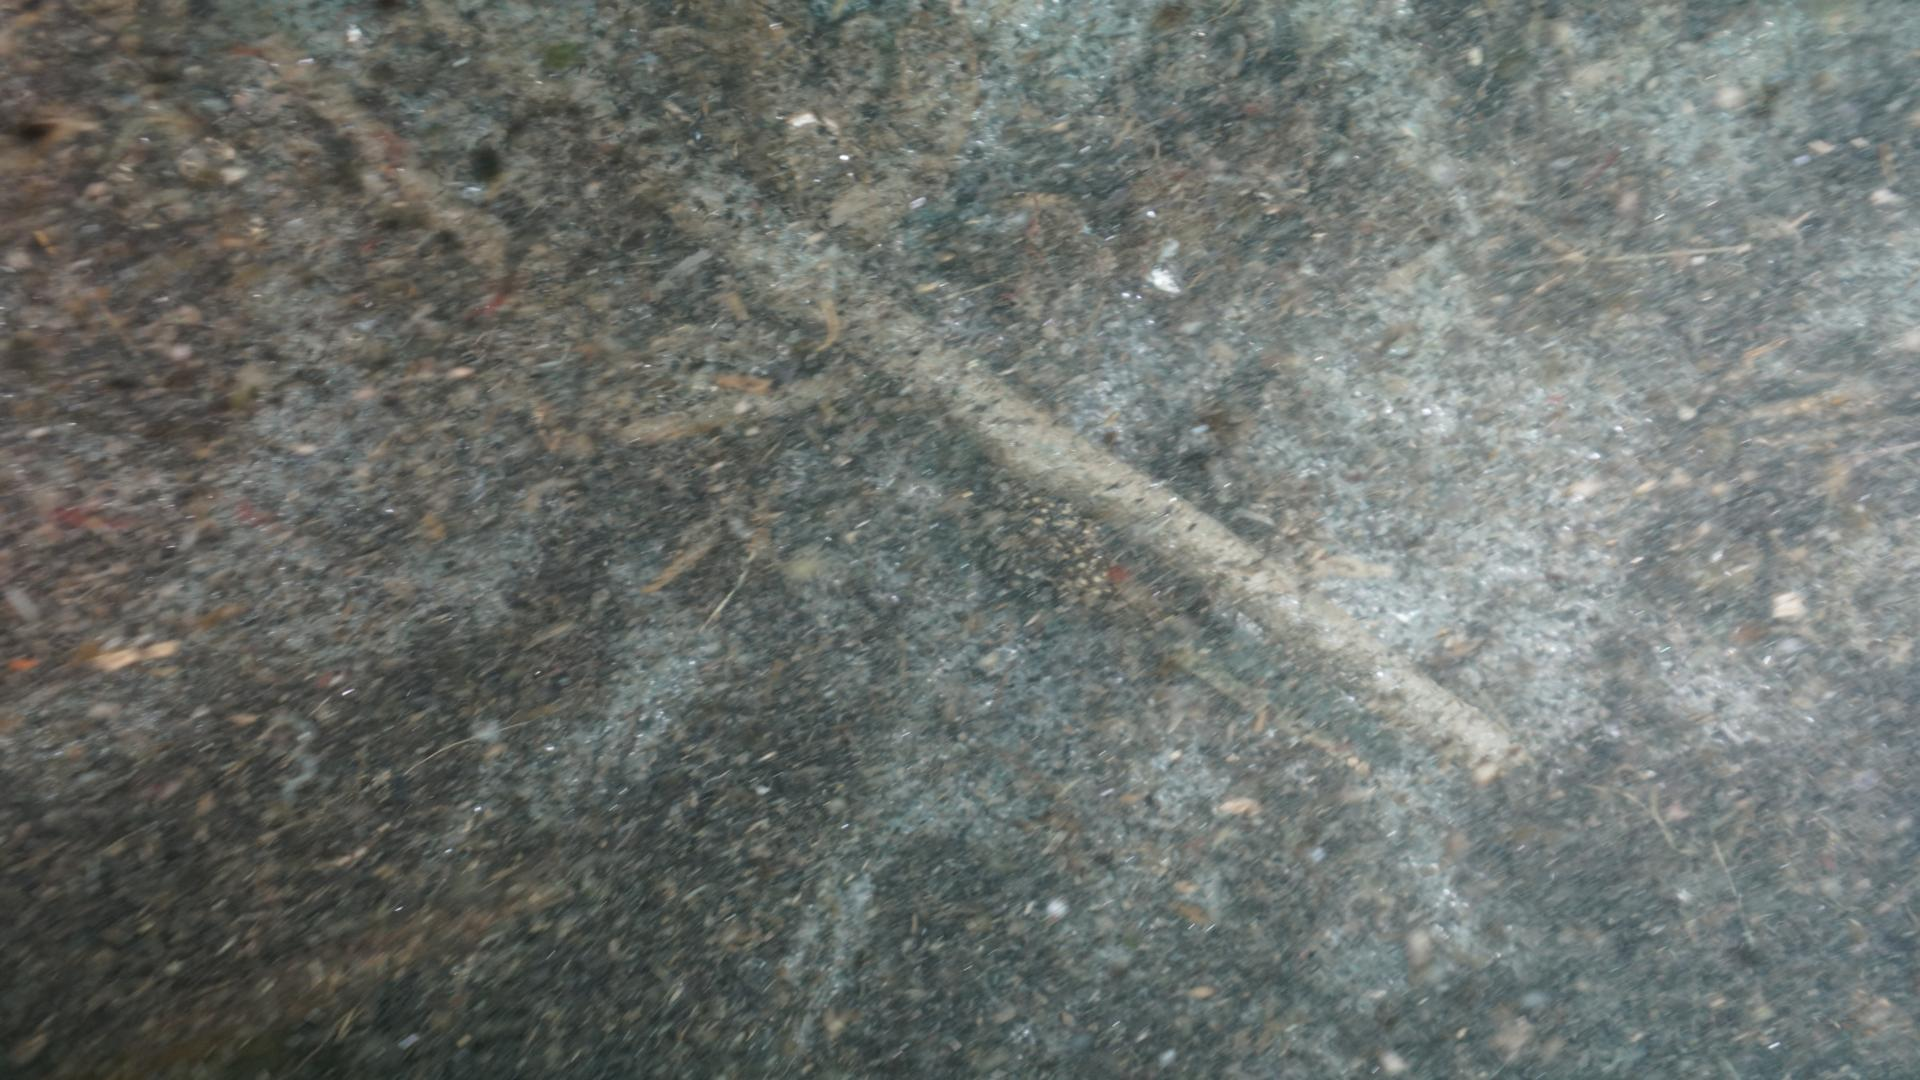wood: (566, 69, 1524, 789)
